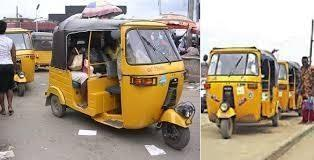keke: (48, 18, 196, 150), (202, 45, 286, 140)
